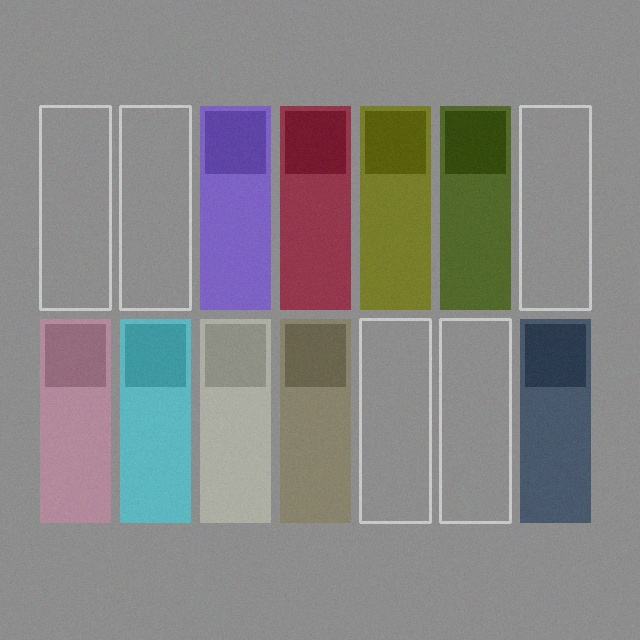space-empty: (40, 106, 110, 309), (120, 106, 190, 309), (520, 106, 590, 309), (360, 319, 430, 522), (440, 319, 510, 522)
space-occupied: (200, 106, 270, 309), (280, 106, 350, 309), (360, 106, 430, 309), (440, 106, 510, 309), (40, 319, 110, 522), (120, 319, 190, 522), (200, 319, 270, 522), (280, 319, 350, 522), (520, 319, 590, 522)
